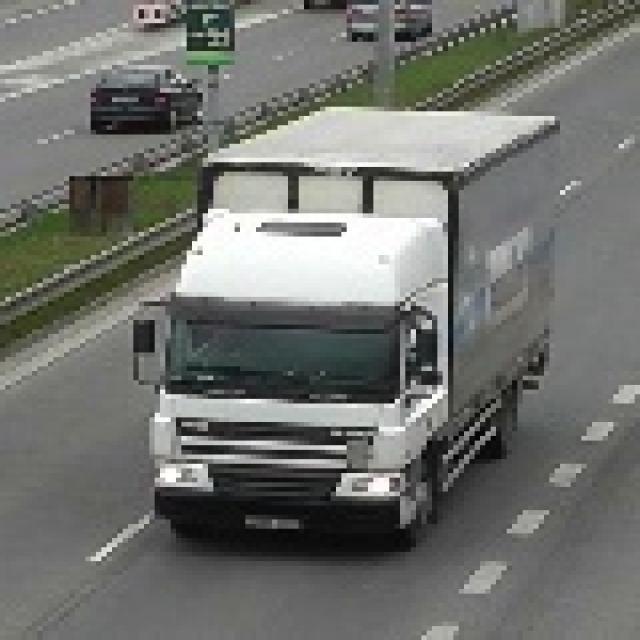truck: (129, 94, 556, 548)
